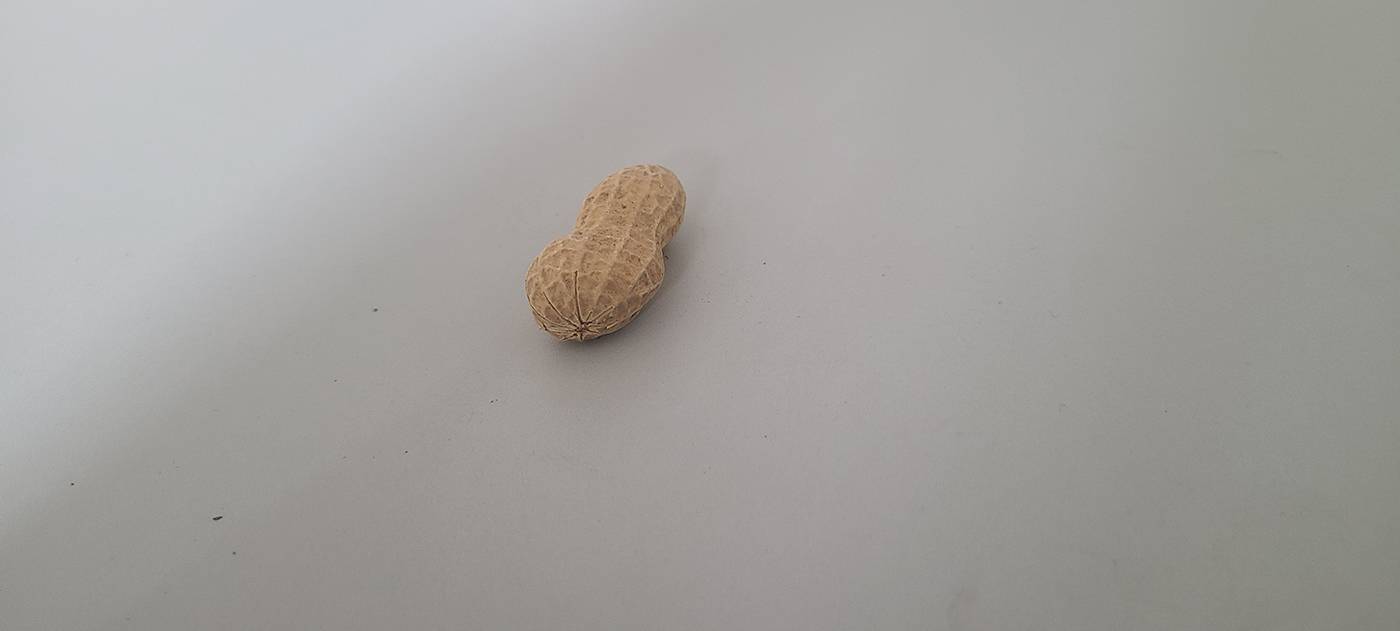h: (521, 162, 686, 345)
